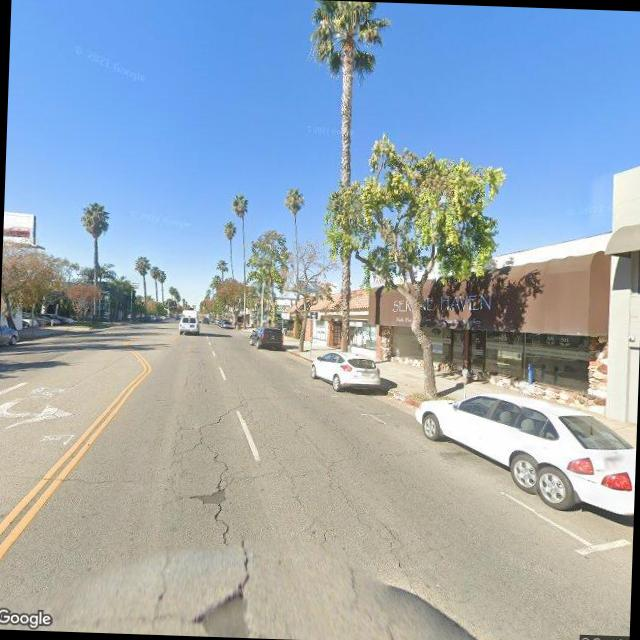crack: (126, 396, 425, 640)
